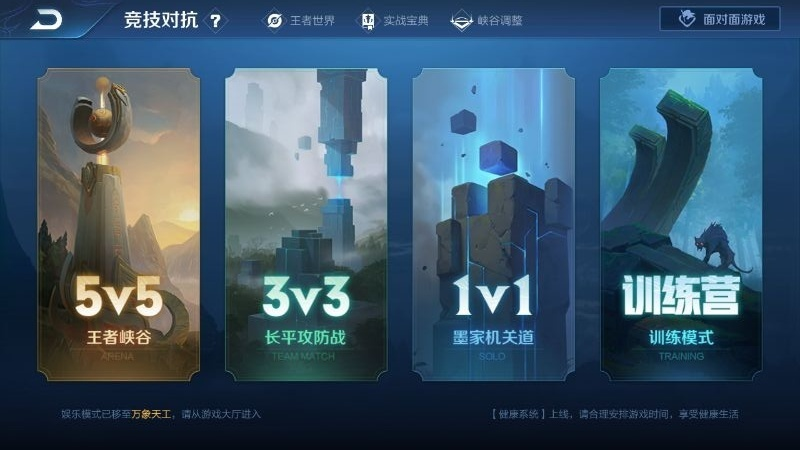return: (16, 1, 78, 38)
tag: (616, 83, 749, 267), (55, 80, 177, 269), (434, 82, 548, 268), (258, 78, 364, 270)
